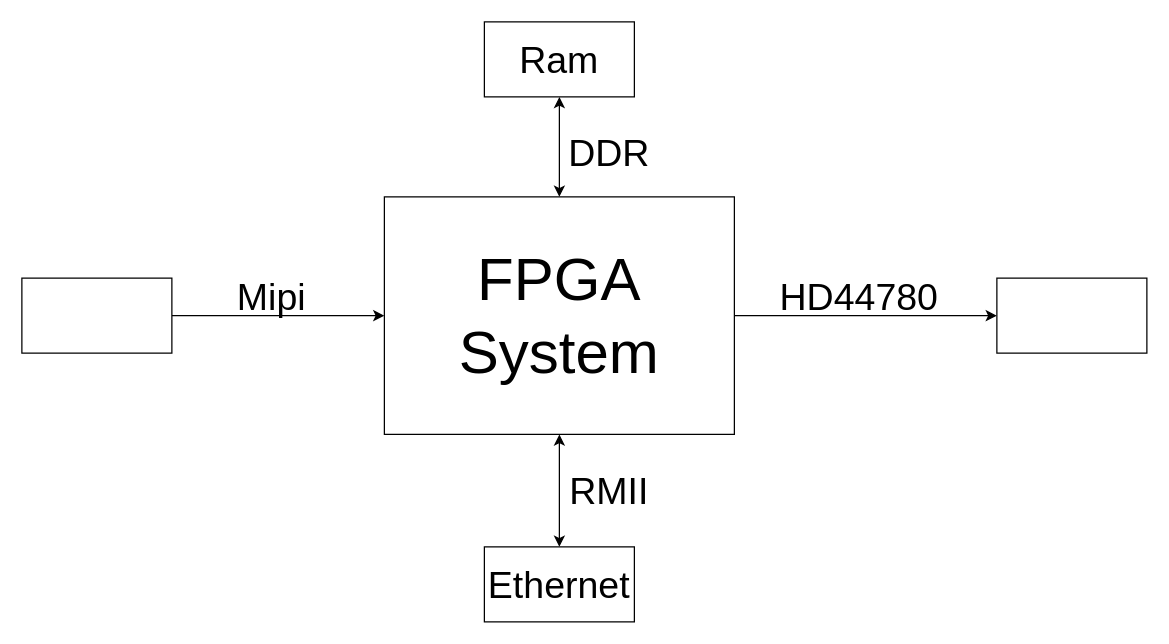
Image size: 1169x644. Some labels were removed from this diagram. The box of each missing label's shape, as (x1, y1, x2, y2) in pixels:
Camera: (21, 277, 172, 353)
LCD: (996, 277, 1147, 353)
